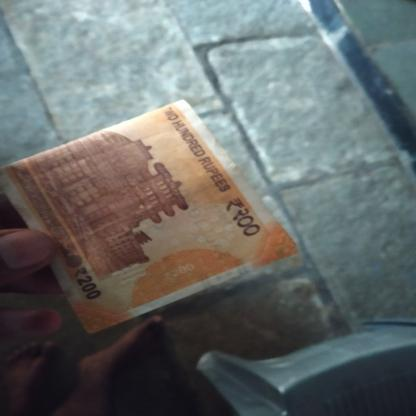New200Back: (8, 104, 257, 302)
